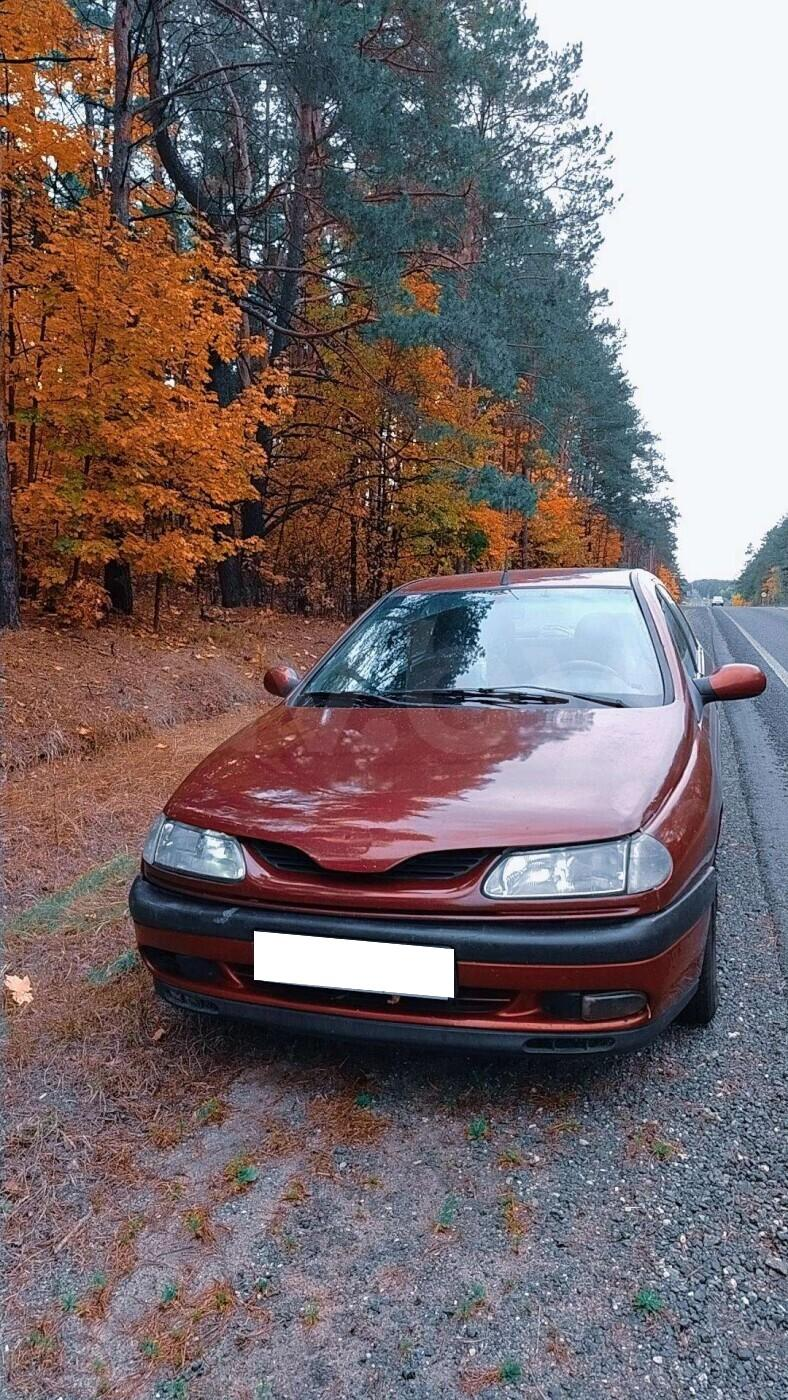Lahuna_1993-1999: (130, 554, 768, 1088)
